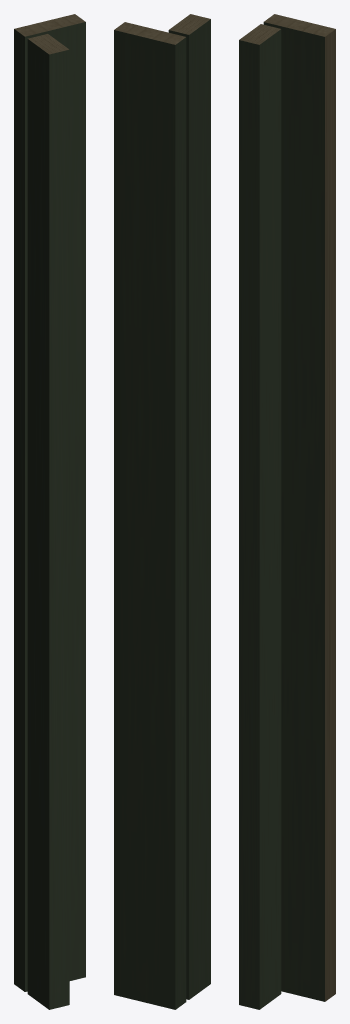
File: house_01_corner_trim.glb
3 views of the same model, side by side, from view 1: azimuth 30°, elevation 25°; view 2: azimuth 150°, elevation 25°; view 3: azimuth 330°, elevation 25° (orthographic).
Parts seen in each view (by area): view 1: outdoor_house_01_corner_trim; view 2: outdoor_house_01_corner_trim; view 3: outdoor_house_01_corner_trim.
Part boxes in pixels (<box>): outdoor_house_01_corner_trim: <box>14,14,85,1009</box>; outdoor_house_01_corner_trim: <box>114,14,210,1009</box>; outdoor_house_01_corner_trim: <box>239,14,335,1009</box>.
Size of the model in its own units: 0.18 by 2.7 by 0.18.
Materials: 1 (1 with a texture image).
